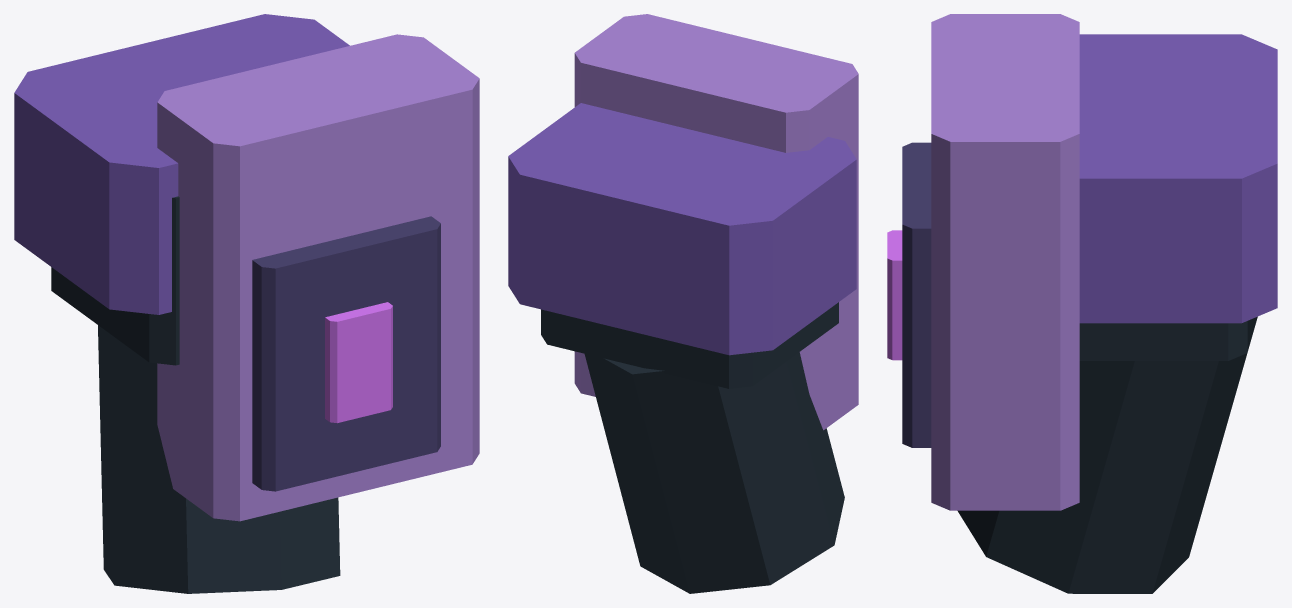
The model's file is enemy_tank_lod_upper_arm_l.obj.
The picture shows the model from 3 angles, left to right: view 1: azimuth 30°, elevation 25°; view 2: azimuth 150°, elevation 25°; view 3: azimuth 270°, elevation 25°; orthographic projection. The views are drawn at different scales.
Bounding box in the file's own units: 0.655 × 1.02 × 0.71.
